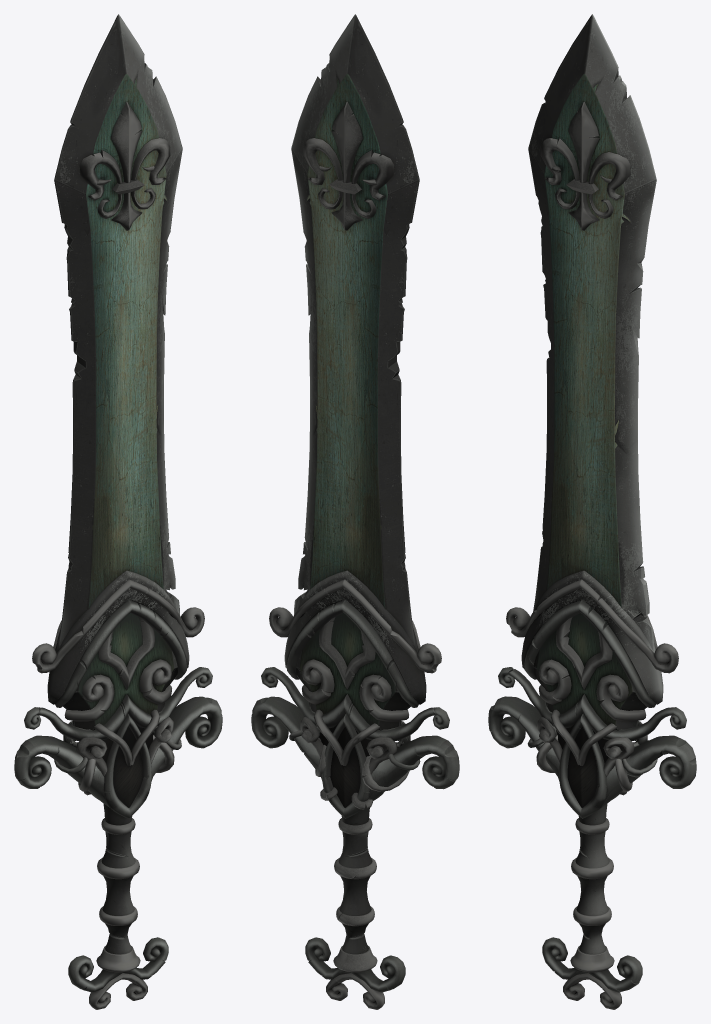
The model's file is sm_sword_71.gltf.
The picture shows the model from 3 angles, left to right: view 1: azimuth 30°, elevation 25°; view 2: azimuth 150°, elevation 25°; view 3: azimuth 330°, elevation 25°; orthographic projection.
Visible parts, largest first — view 1: sm_sword_71; view 2: sm_sword_71; view 3: sm_sword_71.
Part boxes in pixels (x1,y1,x2,y2): sm_sword_71: (14,14,222,1009); sm_sword_71: (251,14,459,1009); sm_sword_71: (488,14,696,1009).
Size of the model in its own units: 0.3335 by 1.52 by 0.0906.
Materials: 1 (1 with a texture image).
